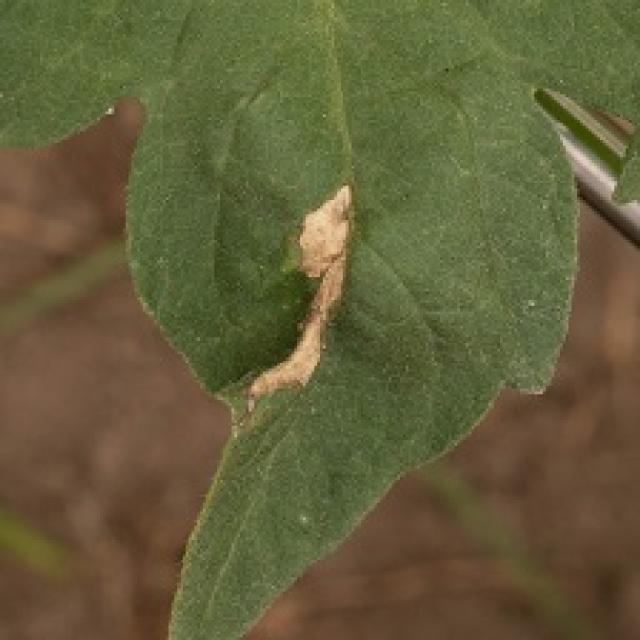Tuta absoluta: (240, 175, 373, 427)
